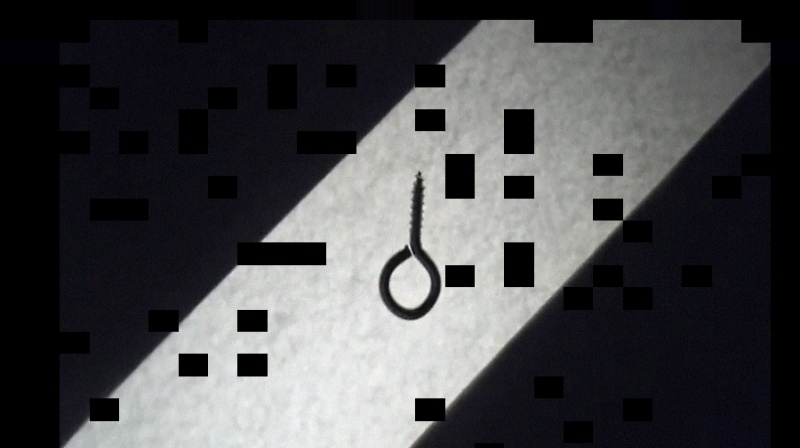O001: (375, 166, 441, 321)
